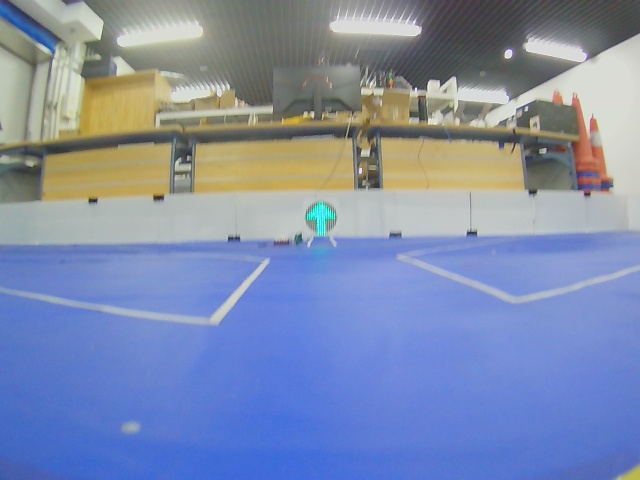straight_green: (305, 201, 337, 236)
